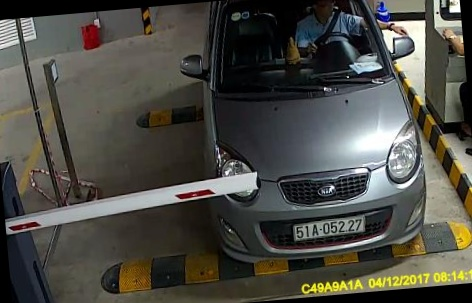plate: (286, 216, 371, 243)
